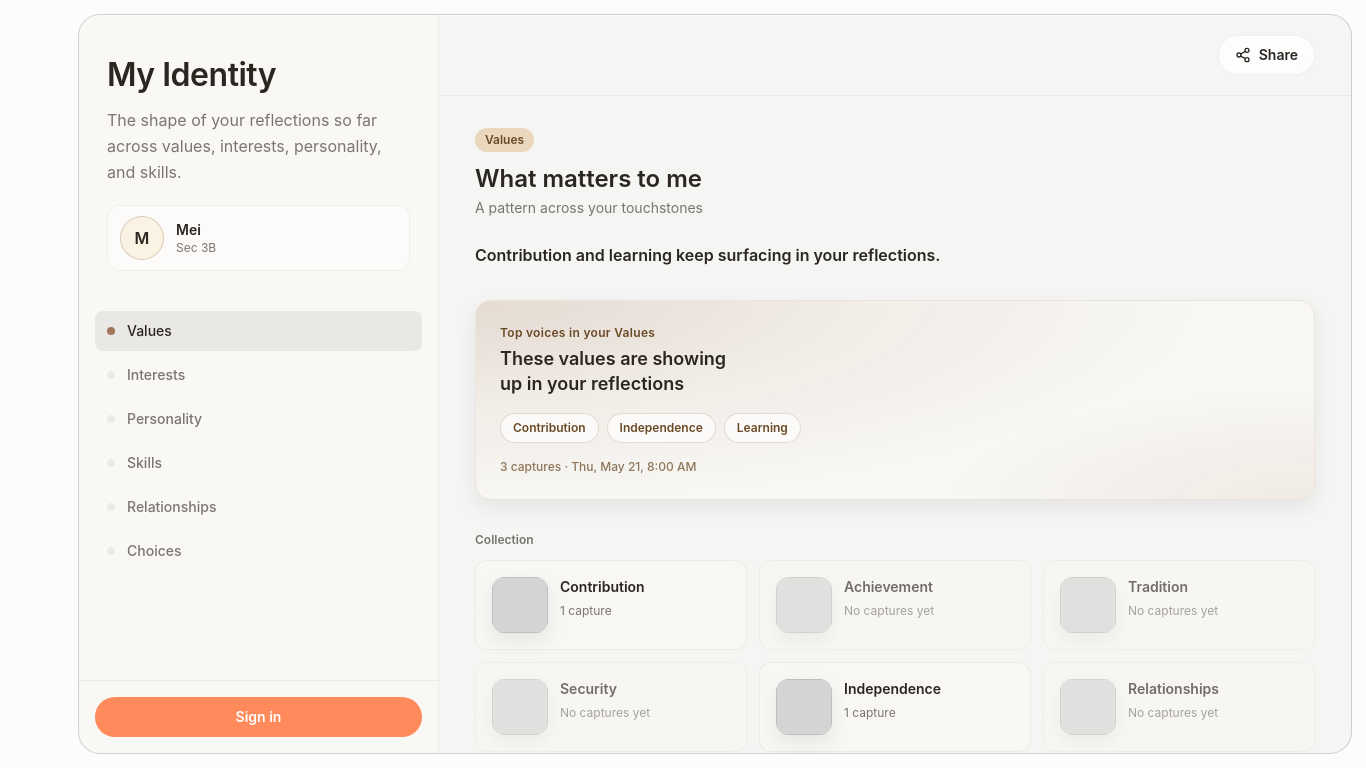
Test case: ProfileSheet (React) › routes non-VIPS tabs through their React panels
Click the tab "Relationships". click: (172, 506)
box: [95,487,422,527]
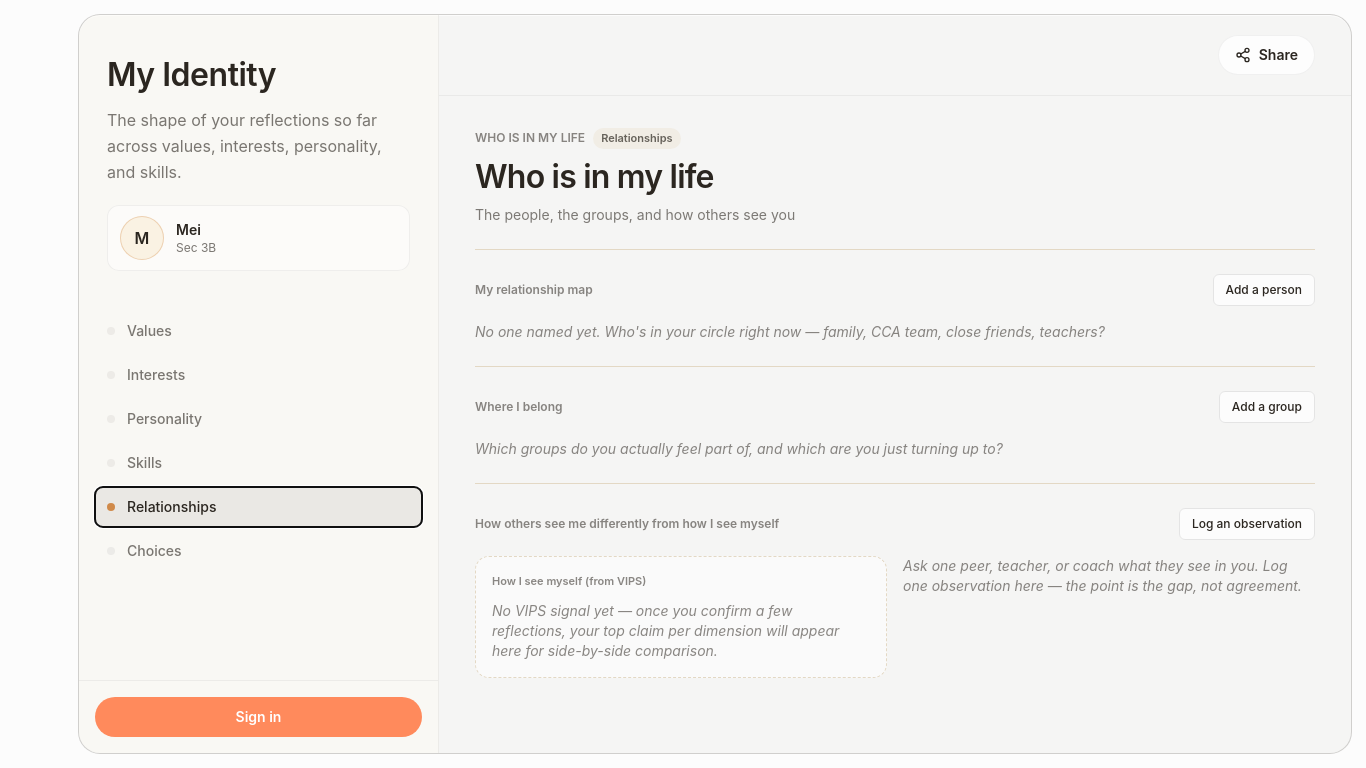
Check: the element with test id "relationships-page" is shown, box [475,128,1315,734]
